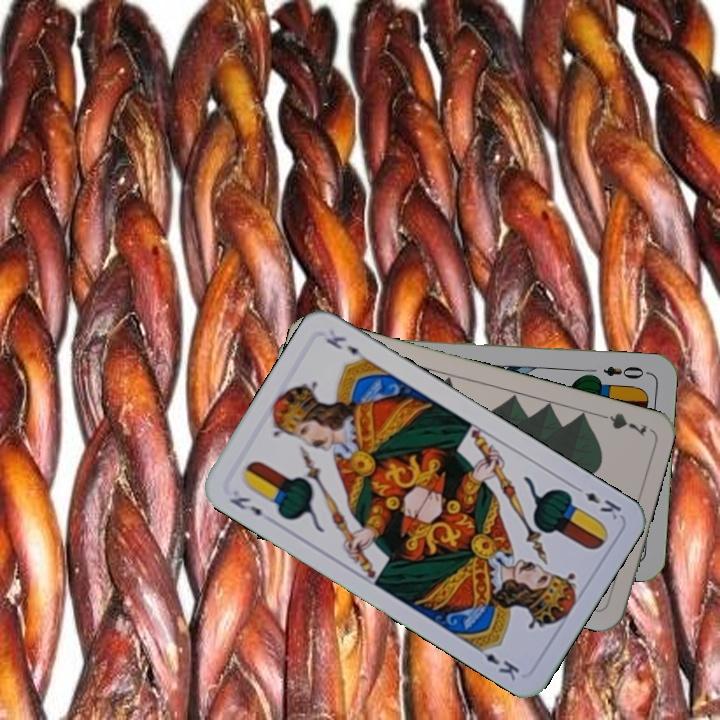EK: (569, 481, 624, 523), (225, 492, 265, 519)
EO: (599, 361, 651, 382)
G7: (592, 408, 650, 439)
